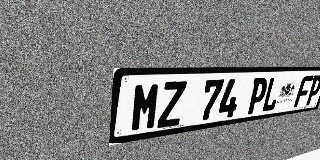4: (217, 79, 243, 119)
7: (197, 79, 224, 122)
F: (293, 76, 314, 107)
L: (261, 77, 283, 112)
M: (130, 82, 162, 133)
P: (245, 77, 269, 115), (304, 75, 320, 106)
Z: (157, 81, 187, 128)
